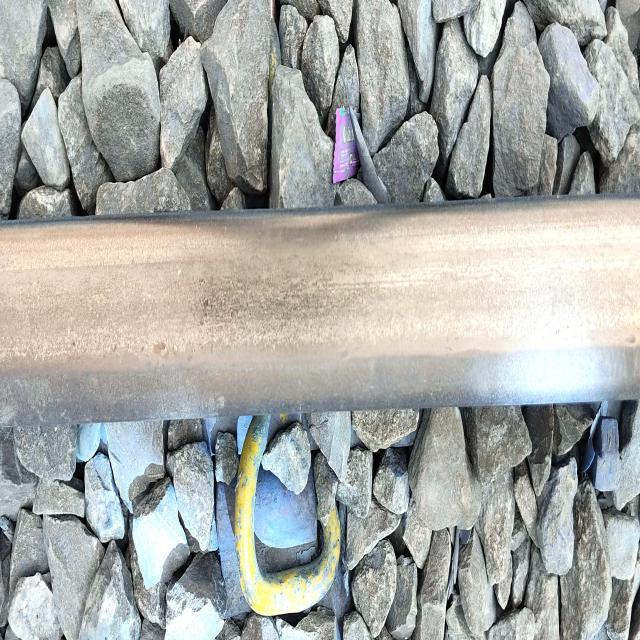Good Fasteners: (181, 437, 382, 632)
